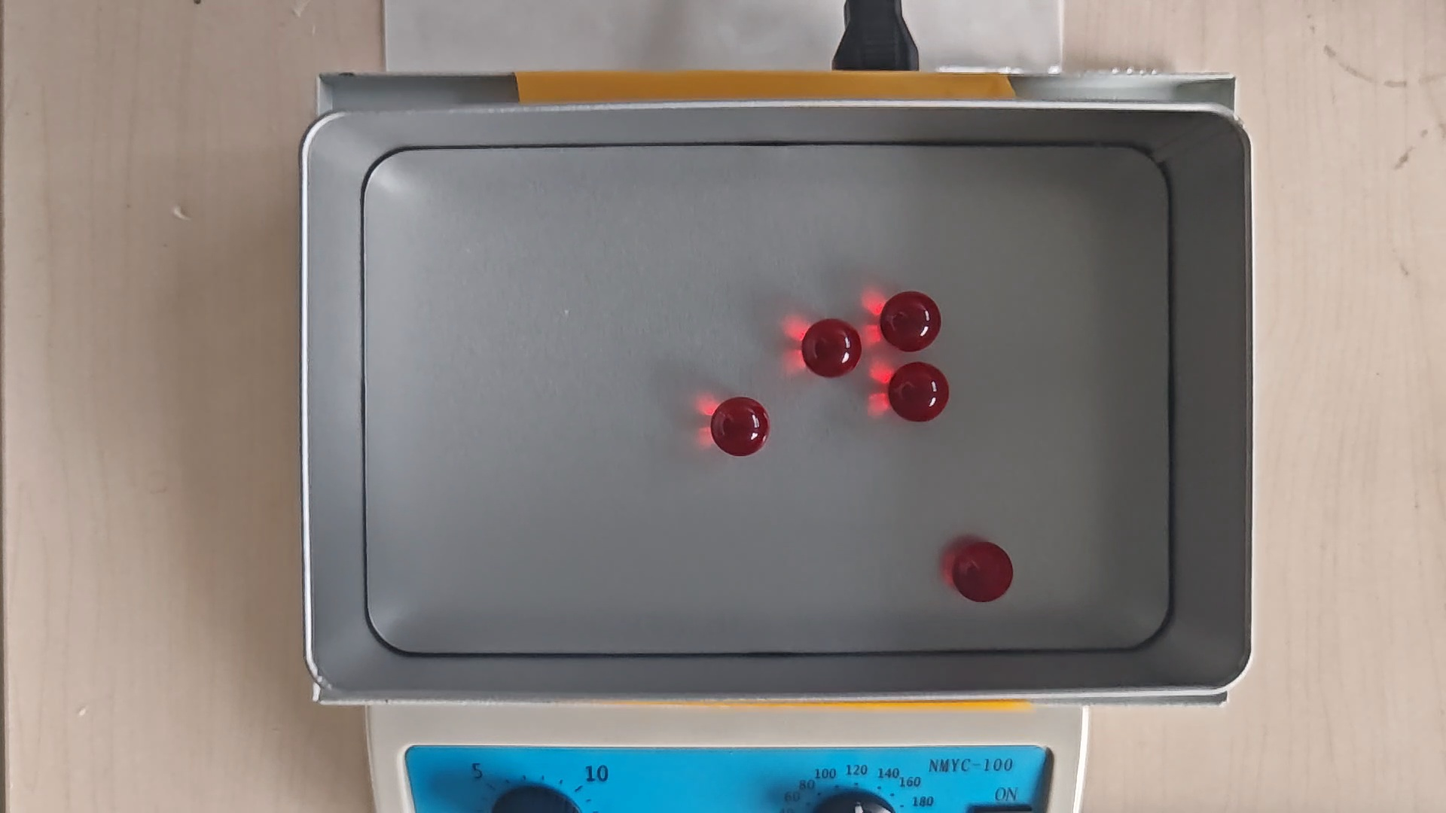ball: (802, 316, 861, 378), (712, 397, 770, 457), (954, 541, 1011, 601), (883, 291, 939, 352), (892, 361, 947, 423)
container: (359, 139, 1172, 655)
